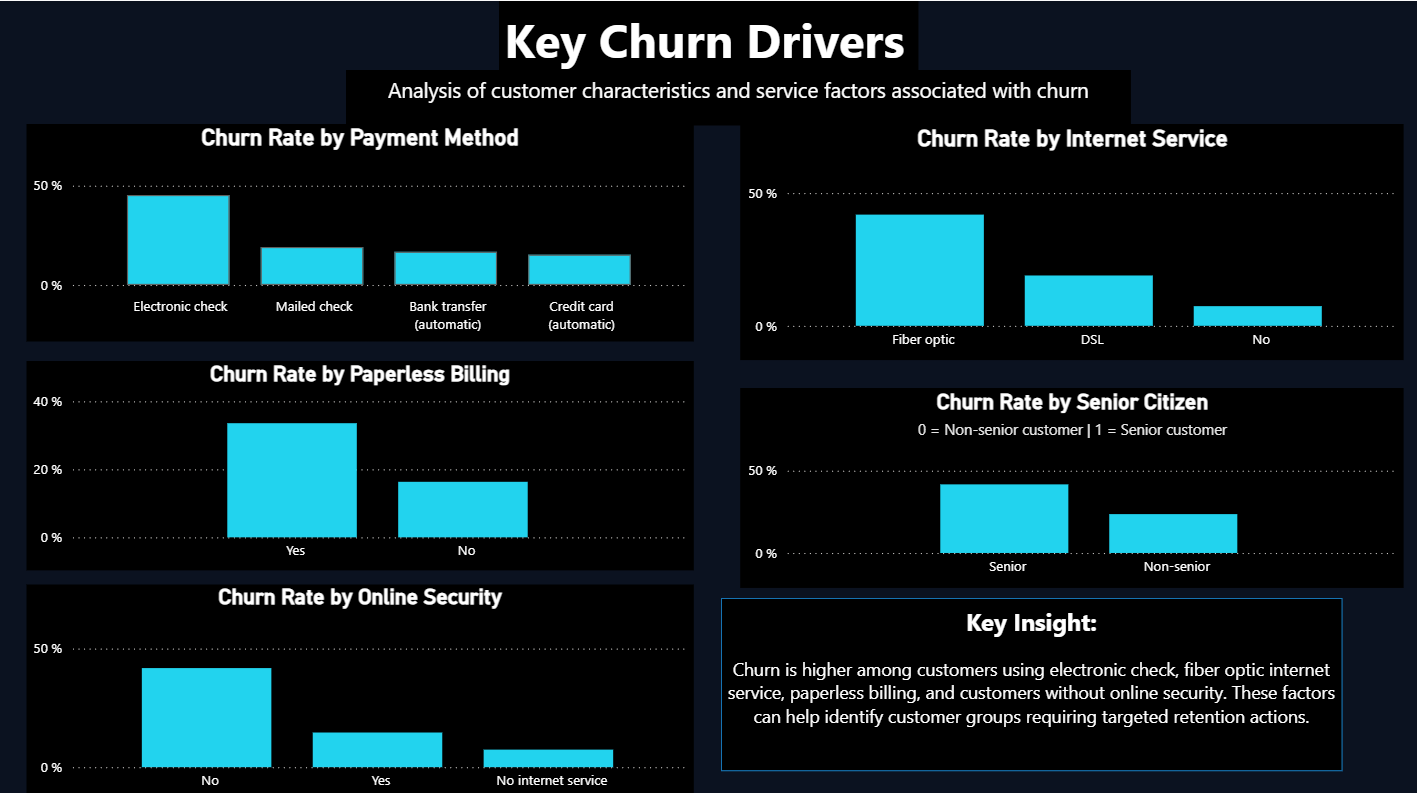

What the dashboard file says about the page in this screenshot:
{"tool":"powerbi","page":{"name":"Churn Drivers","canvas":[1280,720],"ordinal":1},"visuals":[{"type":"textbox","box":[452,0,378,68],"z":0},{"type":"textbox","box":[313.4,62.1,707.1,50],"z":1000},{"type":"columnChart","title":"Churn Rate by Payment Method","fields":{"Category":["customer_churn_final (1).PaymentMethod"],"Y":["customer_churn_final (1).Churn Rate"]},"box":[25.7,111.4,601.4,195.7],"z":2000},{"type":"columnChart","title":"Churn Rate by Internet Service","fields":{"Category":["customer_churn_final (1).InternetService"],"Y":["customer_churn_final (1).Churn Rate"]},"box":[668.6,111.4,597.1,212.9],"z":3000},{"type":"columnChart","title":"Churn Rate by Paperless Billing","fields":{"Category":["customer_churn_final (1).PaperlessBilling"],"Y":["customer_churn_final (1).Churn Rate"]},"box":[25.7,324.3,601.4,188.6],"z":4000},{"type":"columnChart","title":"Churn Rate by Senior Citizen","fields":{"Y":["customer_churn_final (1).Churn Rate"],"Category":["customer_churn_final (1).Senior Citizen Label"]},"box":[668.6,348.6,597.1,180],"z":5000},{"type":"columnChart","title":"Churn Rate by Online Security","fields":{"Category":["customer_churn_final (1).OnlineSecurity"],"Y":["customer_churn_final (1).Churn Rate"]},"box":[25.7,525.7,601.4,194.3],"z":6000},{"type":"textbox","box":[651.4,538.6,560,155.7],"z":7000}]}

Visuals, with their boxes in screenshot pixels (x1, y1, x2, y2), scaled from the page's 1280x720 canvas onto the 1417x793 screenshot:
textbox: [500, 0, 919, 75]
textbox: [347, 68, 1130, 123]
"Churn Rate by Payment Method" columnChart: [28, 123, 694, 338]
"Churn Rate by Internet Service" columnChart: [740, 123, 1401, 357]
"Churn Rate by Paperless Billing" columnChart: [28, 357, 694, 565]
"Churn Rate by Senior Citizen" columnChart: [740, 384, 1401, 582]
"Churn Rate by Online Security" columnChart: [28, 579, 694, 792]
textbox: [721, 593, 1341, 765]
